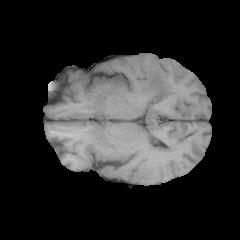glioma: (140, 64, 172, 106)
